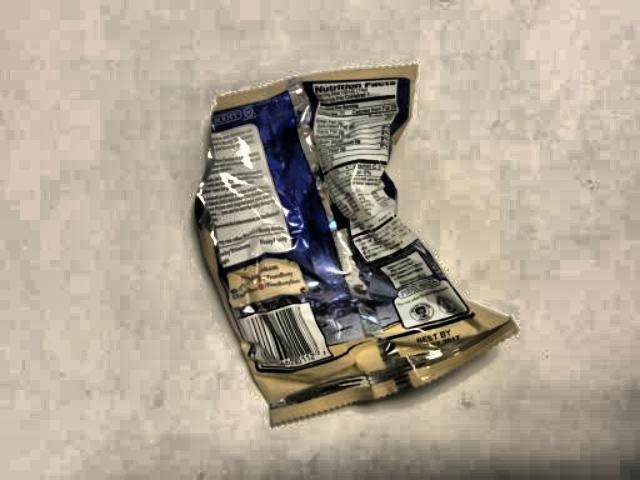Plastic: (161, 18, 524, 457)
